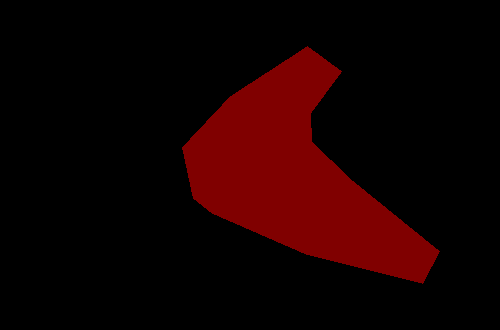fire: (182, 46, 439, 283)
